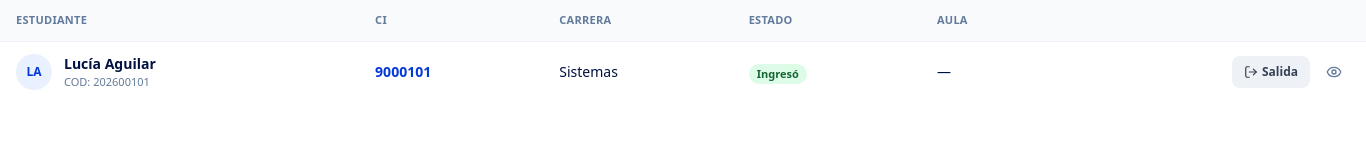
Scenario: si el servidor la rechaza, muestra su mensaje
What coordinates should you click on to do the following:
click the button with aria-label "Registrar salida de Lucía Aguilar"
I would click on:
 (1271, 72)
Its box is [1232,56,1310,88].
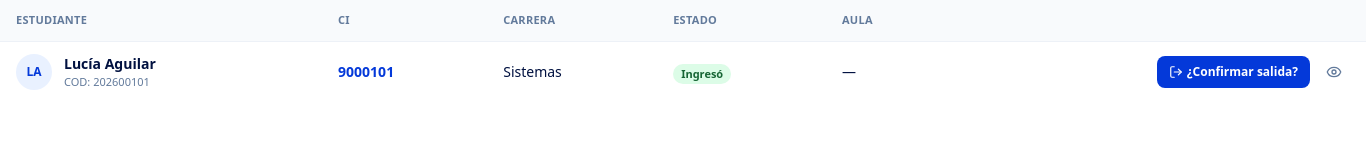
What coordinates should you click on to do the following:
click the button with aria-label "Confirmar la salida de Lucía Aguilar"
I would click on:
 (1233, 72)
Its box is [1157,56,1310,88].
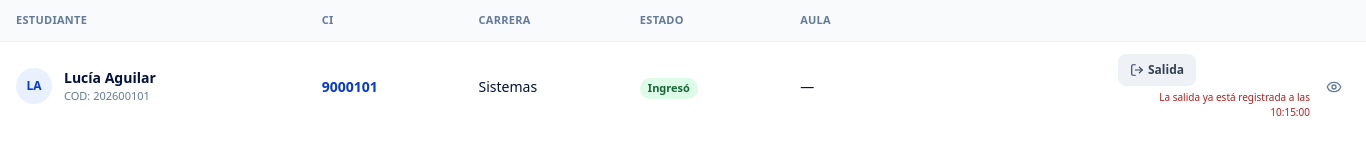
Expected: the message reads "La salida ya está registrada a las 10:15:00", [1159,90,1310,118]
